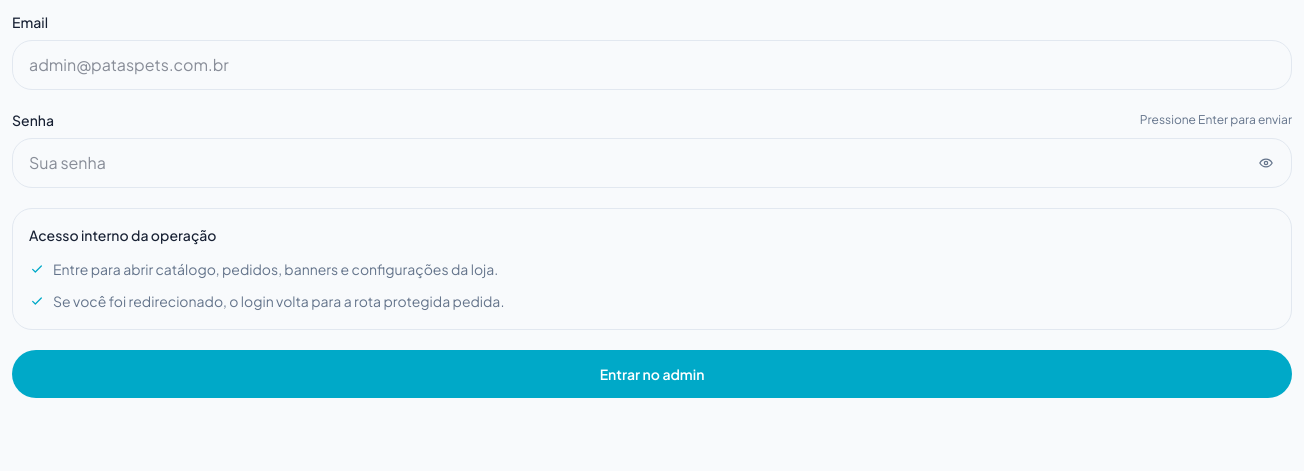
LoginForm › shows validation errors before hitting Supabase
Type "invalido" into the field labelled "Email" at [652, 65], box x1=12 y1=40 x2=1292 y2=90
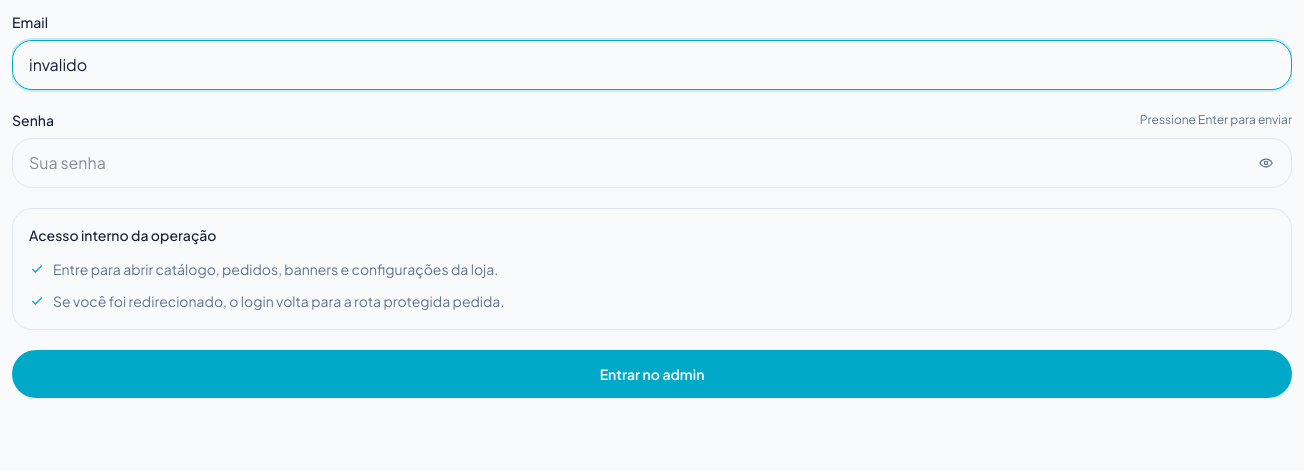
Click the button "Entrar no admin" at [652, 374], box x1=12 y1=350 x2=1292 y2=398
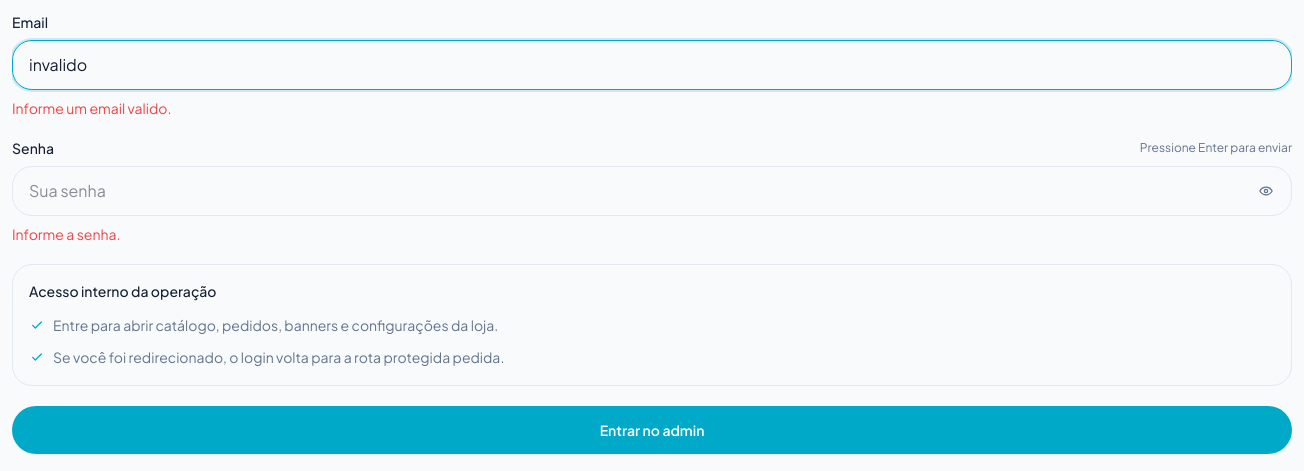
Now the text "Informe um email valido." is shown, box x1=12 y1=99 x2=171 y2=117
Now the text "Informe a senha." is shown, box x1=12 y1=225 x2=120 y2=243
